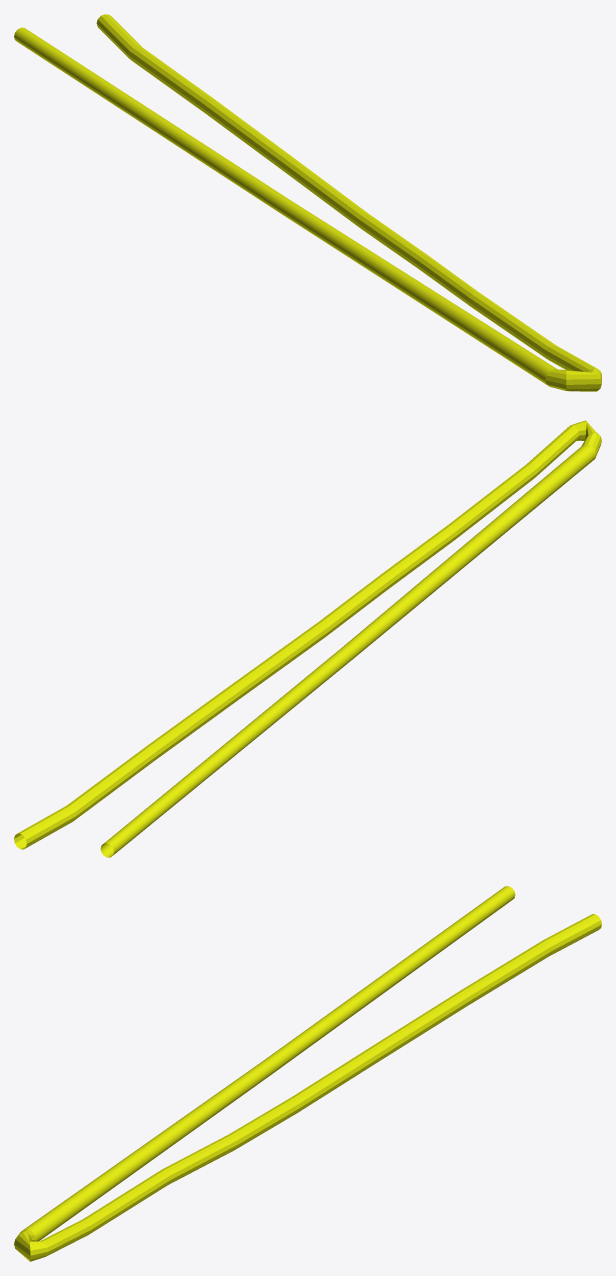
The model's file is string2.fbx.
3 renders of one model, top to bottom at view 1: azimuth 30°, elevation 25°; view 2: azimuth 150°, elevation 25°; view 3: azimuth 330°, elevation 25°, orthographic. The views are drawn at different scales.
Parts seen in each view (by area): view 1: Cylinder003; view 2: Cylinder003; view 3: Cylinder003.
Part boxes in pixels (x1,y1,x2,y2): Cylinder003: [14, 14, 601, 391]; Cylinder003: [14, 420, 601, 857]; Cylinder003: [14, 886, 601, 1261].
Size of the model in its own units: 36.19 by 20.34 by 334.
